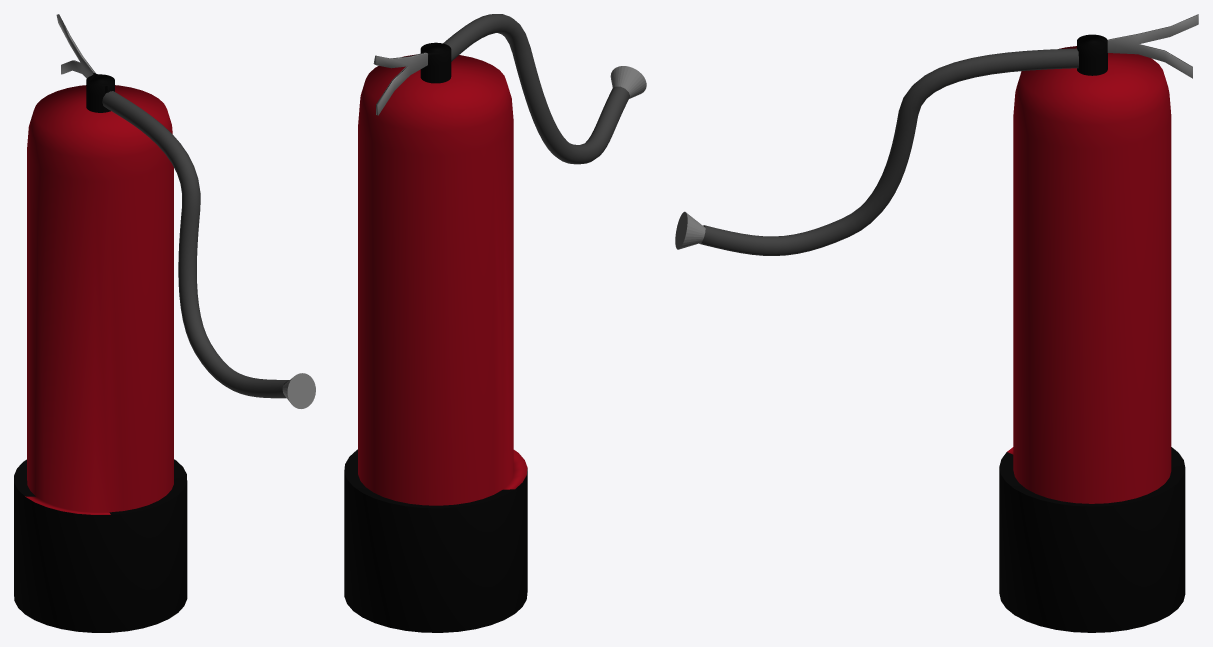
File: Extintor1.fbx
3 renders of one model, left to right at view 1: azimuth 30°, elevation 25°; view 2: azimuth 150°, elevation 25°; view 3: azimuth 270°, elevation 25°, orthographic. The views are drawn at different scales.
Visible parts, largest first — view 1: Cylinder.002; view 2: Cylinder.002; view 3: Cylinder.002.
Part boxes in pixels (box(x1,y1,x2,y2)): Cylinder.002: box(14, 14, 315, 632); Cylinder.002: box(344, 14, 646, 632); Cylinder.002: box(675, 14, 1198, 632).
Size of the model in its own units: 16.47 by 56.94 by 46.34.
